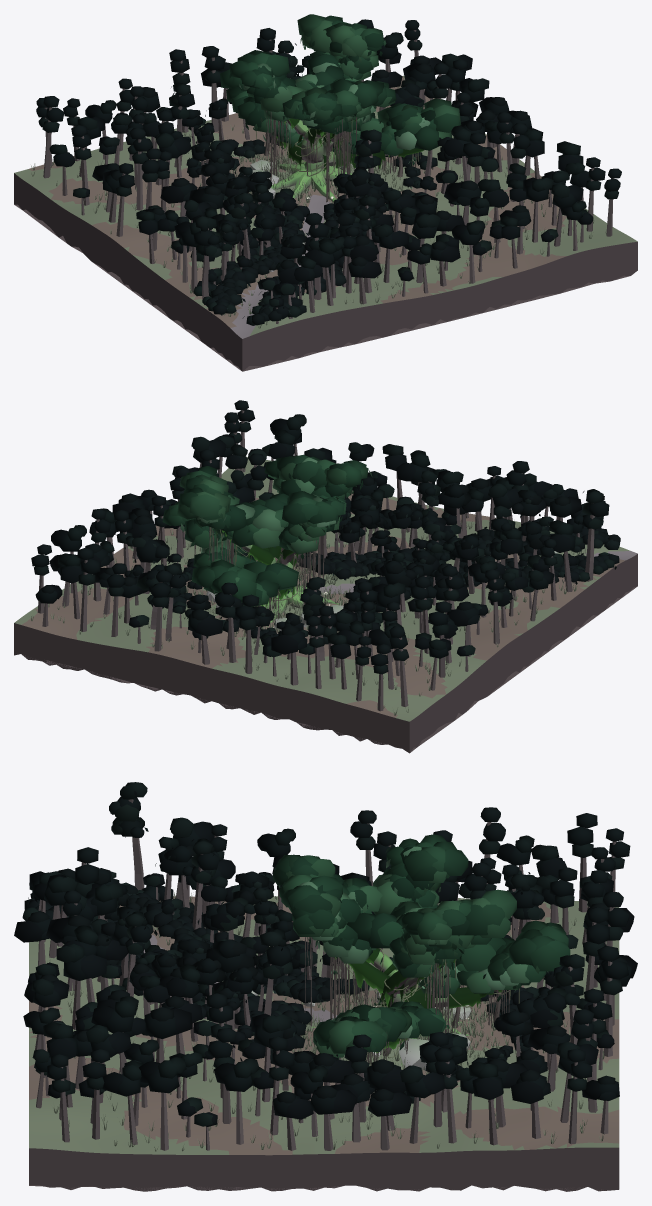
Rendered from VikramVetal_Scene.glb.
The picture shows the model from 3 angles, top to bottom: view 1: azimuth 30°, elevation 25°; view 2: azimuth 150°, elevation 25°; view 3: azimuth 270°, elevation 25°; orthographic projection. The views are drawn at different scales.
Visible parts, largest first — view 1: Jungle, Terrain, Peepal_Canopy, Peepal_AerialRoots, Peepal_Trunk, Peepal_MossDrapes; view 2: Jungle, Terrain, Peepal_Canopy, Peepal_AerialRoots, Peepal_Trunk, Peepal_MossDrapes; view 3: Jungle, Terrain, Peepal_Canopy, Peepal_AerialRoots, Peepal_MossDrapes, Peepal_Trunk, Props.
Boxes of the visible parts, x1,y1,x2,y2 form: Jungle: (36, 19, 621, 325); Terrain: (14, 75, 637, 371); Peepal_Canopy: (220, 14, 461, 169); Peepal_AerialRoots: (256, 110, 433, 202); Peepal_Trunk: (271, 120, 424, 202); Peepal_MossDrapes: (276, 118, 423, 172); Jungle: (31, 400, 620, 711); Terrain: (14, 456, 637, 753); Peepal_Canopy: (162, 454, 372, 607); Peepal_AerialRoots: (194, 527, 326, 637); Peepal_Trunk: (214, 529, 340, 626); Peepal_MossDrapes: (216, 529, 298, 607); Jungle: (14, 782, 637, 1150); Terrain: (29, 892, 619, 1191); Peepal_Canopy: (273, 834, 575, 1059); Peepal_AerialRoots: (304, 937, 544, 1074); Peepal_MossDrapes: (335, 948, 502, 1052); Peepal_Trunk: (311, 948, 497, 1065); Props: (251, 990, 471, 1070).
Bounding box in the file's own units: 42.11 × 15.81 × 42.27.
